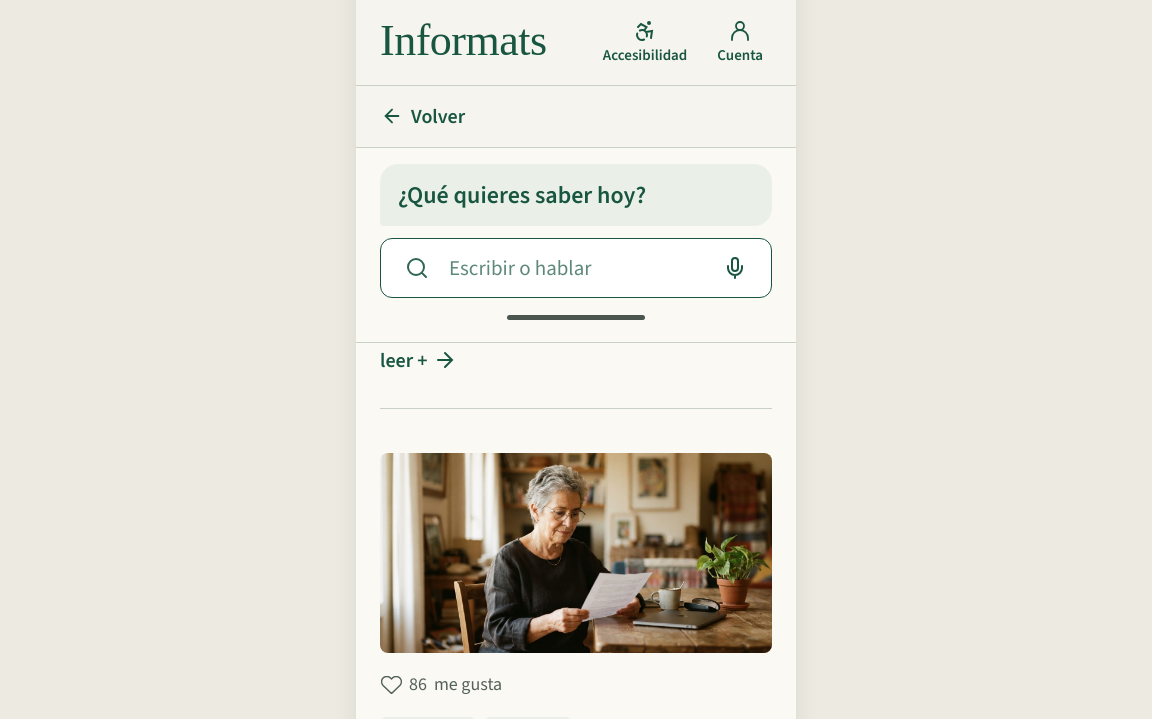
Test case: Informats - Pantalla «Inicio · Hoy, con claridad» › opens article modal when clicking "leer +"
(page scrolled)
Click the button with aria-label "leer noticia completa".
click(419, 360)  # box [380,336,457,384]
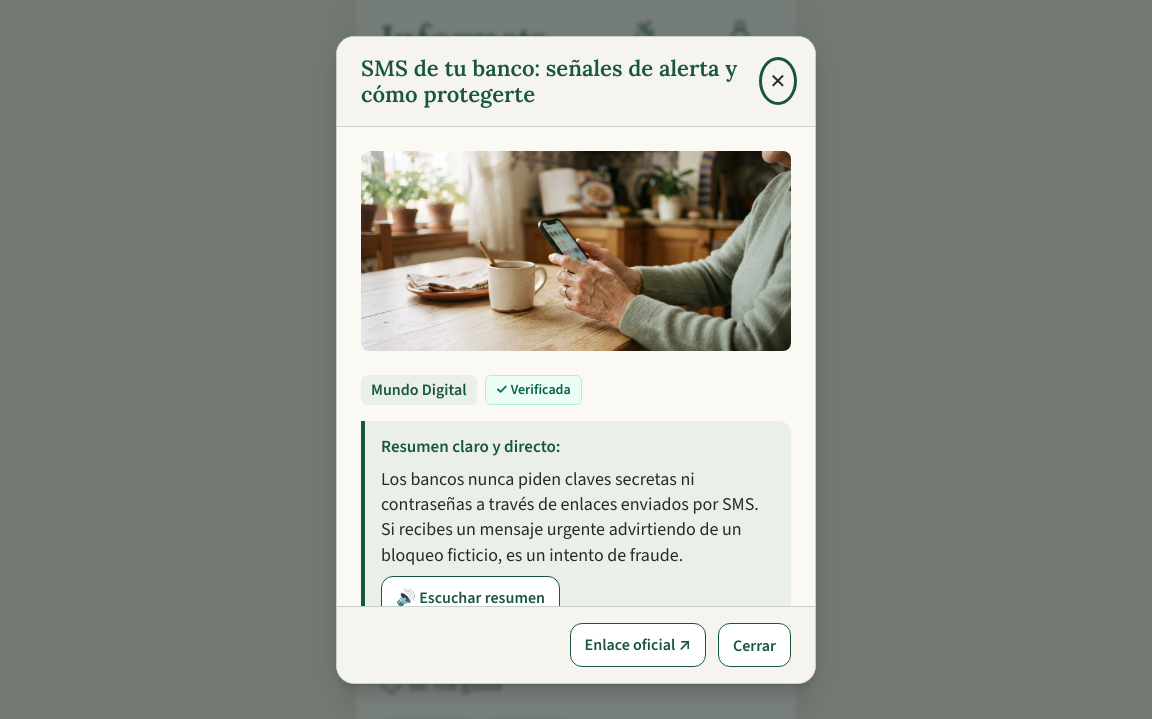
Expected: the dialog is shown, [336,36,816,684]
Expected: the text "Resumen claro y directo:" is shown, [381,435,560,458]
# Cerrar modal
Click the button with aria-label "cerrar lectura de la noticia".
click(754, 645)  # box [718,623,791,667]
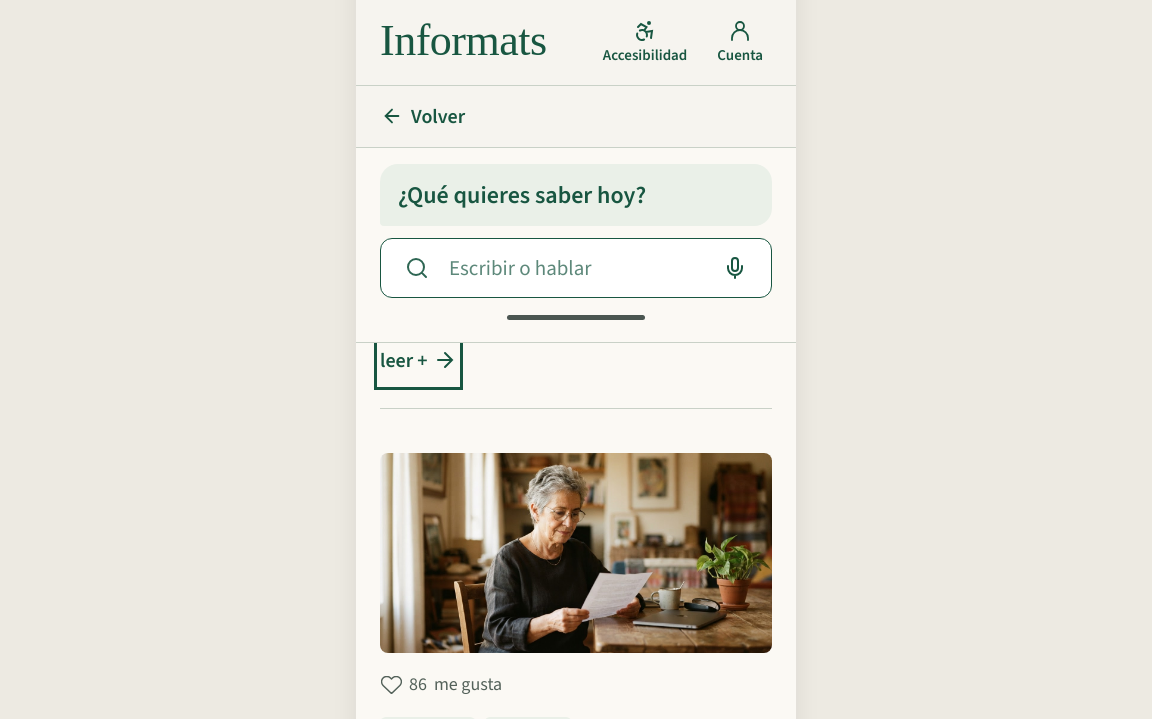
Expected: the dialog is gone
